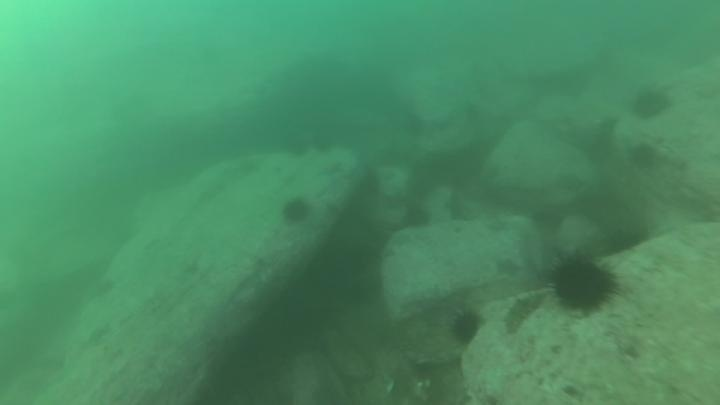echinus: (545, 249, 622, 317), (598, 223, 650, 260), (628, 85, 673, 123), (448, 307, 485, 348), (626, 141, 661, 173), (279, 195, 313, 227), (400, 202, 434, 233), (288, 141, 311, 156), (315, 139, 333, 156)
holothurian: (501, 288, 548, 337)
starfish: (492, 255, 523, 281), (84, 321, 113, 348), (314, 158, 346, 179)
